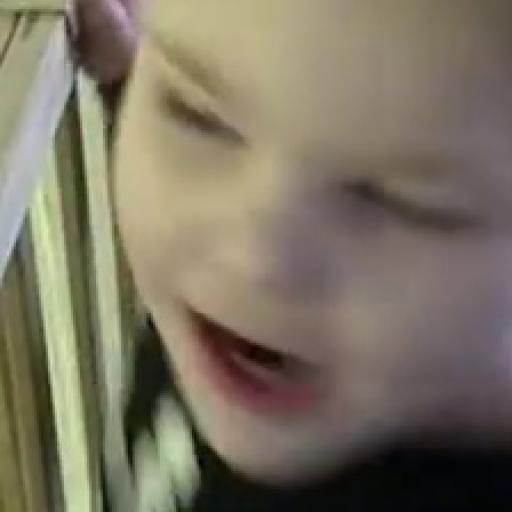Autism: (123, 17, 512, 445)
